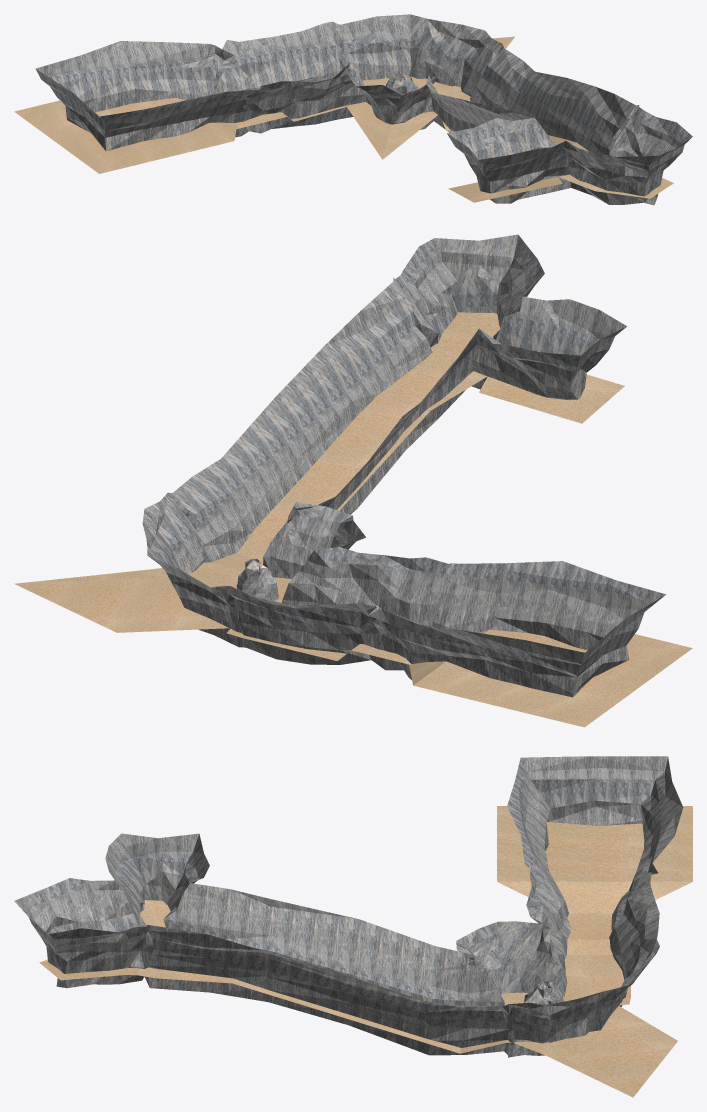
Rendered from levelone.glb.
3 views of the same model, one above another, from view 1: azimuth 30°, elevation 25°; view 2: azimuth 150°, elevation 25°; view 3: azimuth 270°, elevation 25° (orthographic). The views are drawn at different scales.
Visible parts, largest first — view 1: Plane.002, Plane.001; view 2: Plane.002, Plane.001; view 3: Plane.002, Plane.001.
Boxes of the visible parts, box(x1,y1,x2,y2) form: Plane.002: box(35, 14, 692, 205); Plane.001: box(14, 36, 673, 202); Plane.002: box(142, 234, 665, 697); Plane.001: box(14, 312, 692, 727); Plane.002: box(14, 756, 683, 1057); Plane.001: box(39, 806, 692, 1097).
Bounding box in the file's own units: 24.42 × 6.2 × 26.29.
2 materials, 2 textured.
